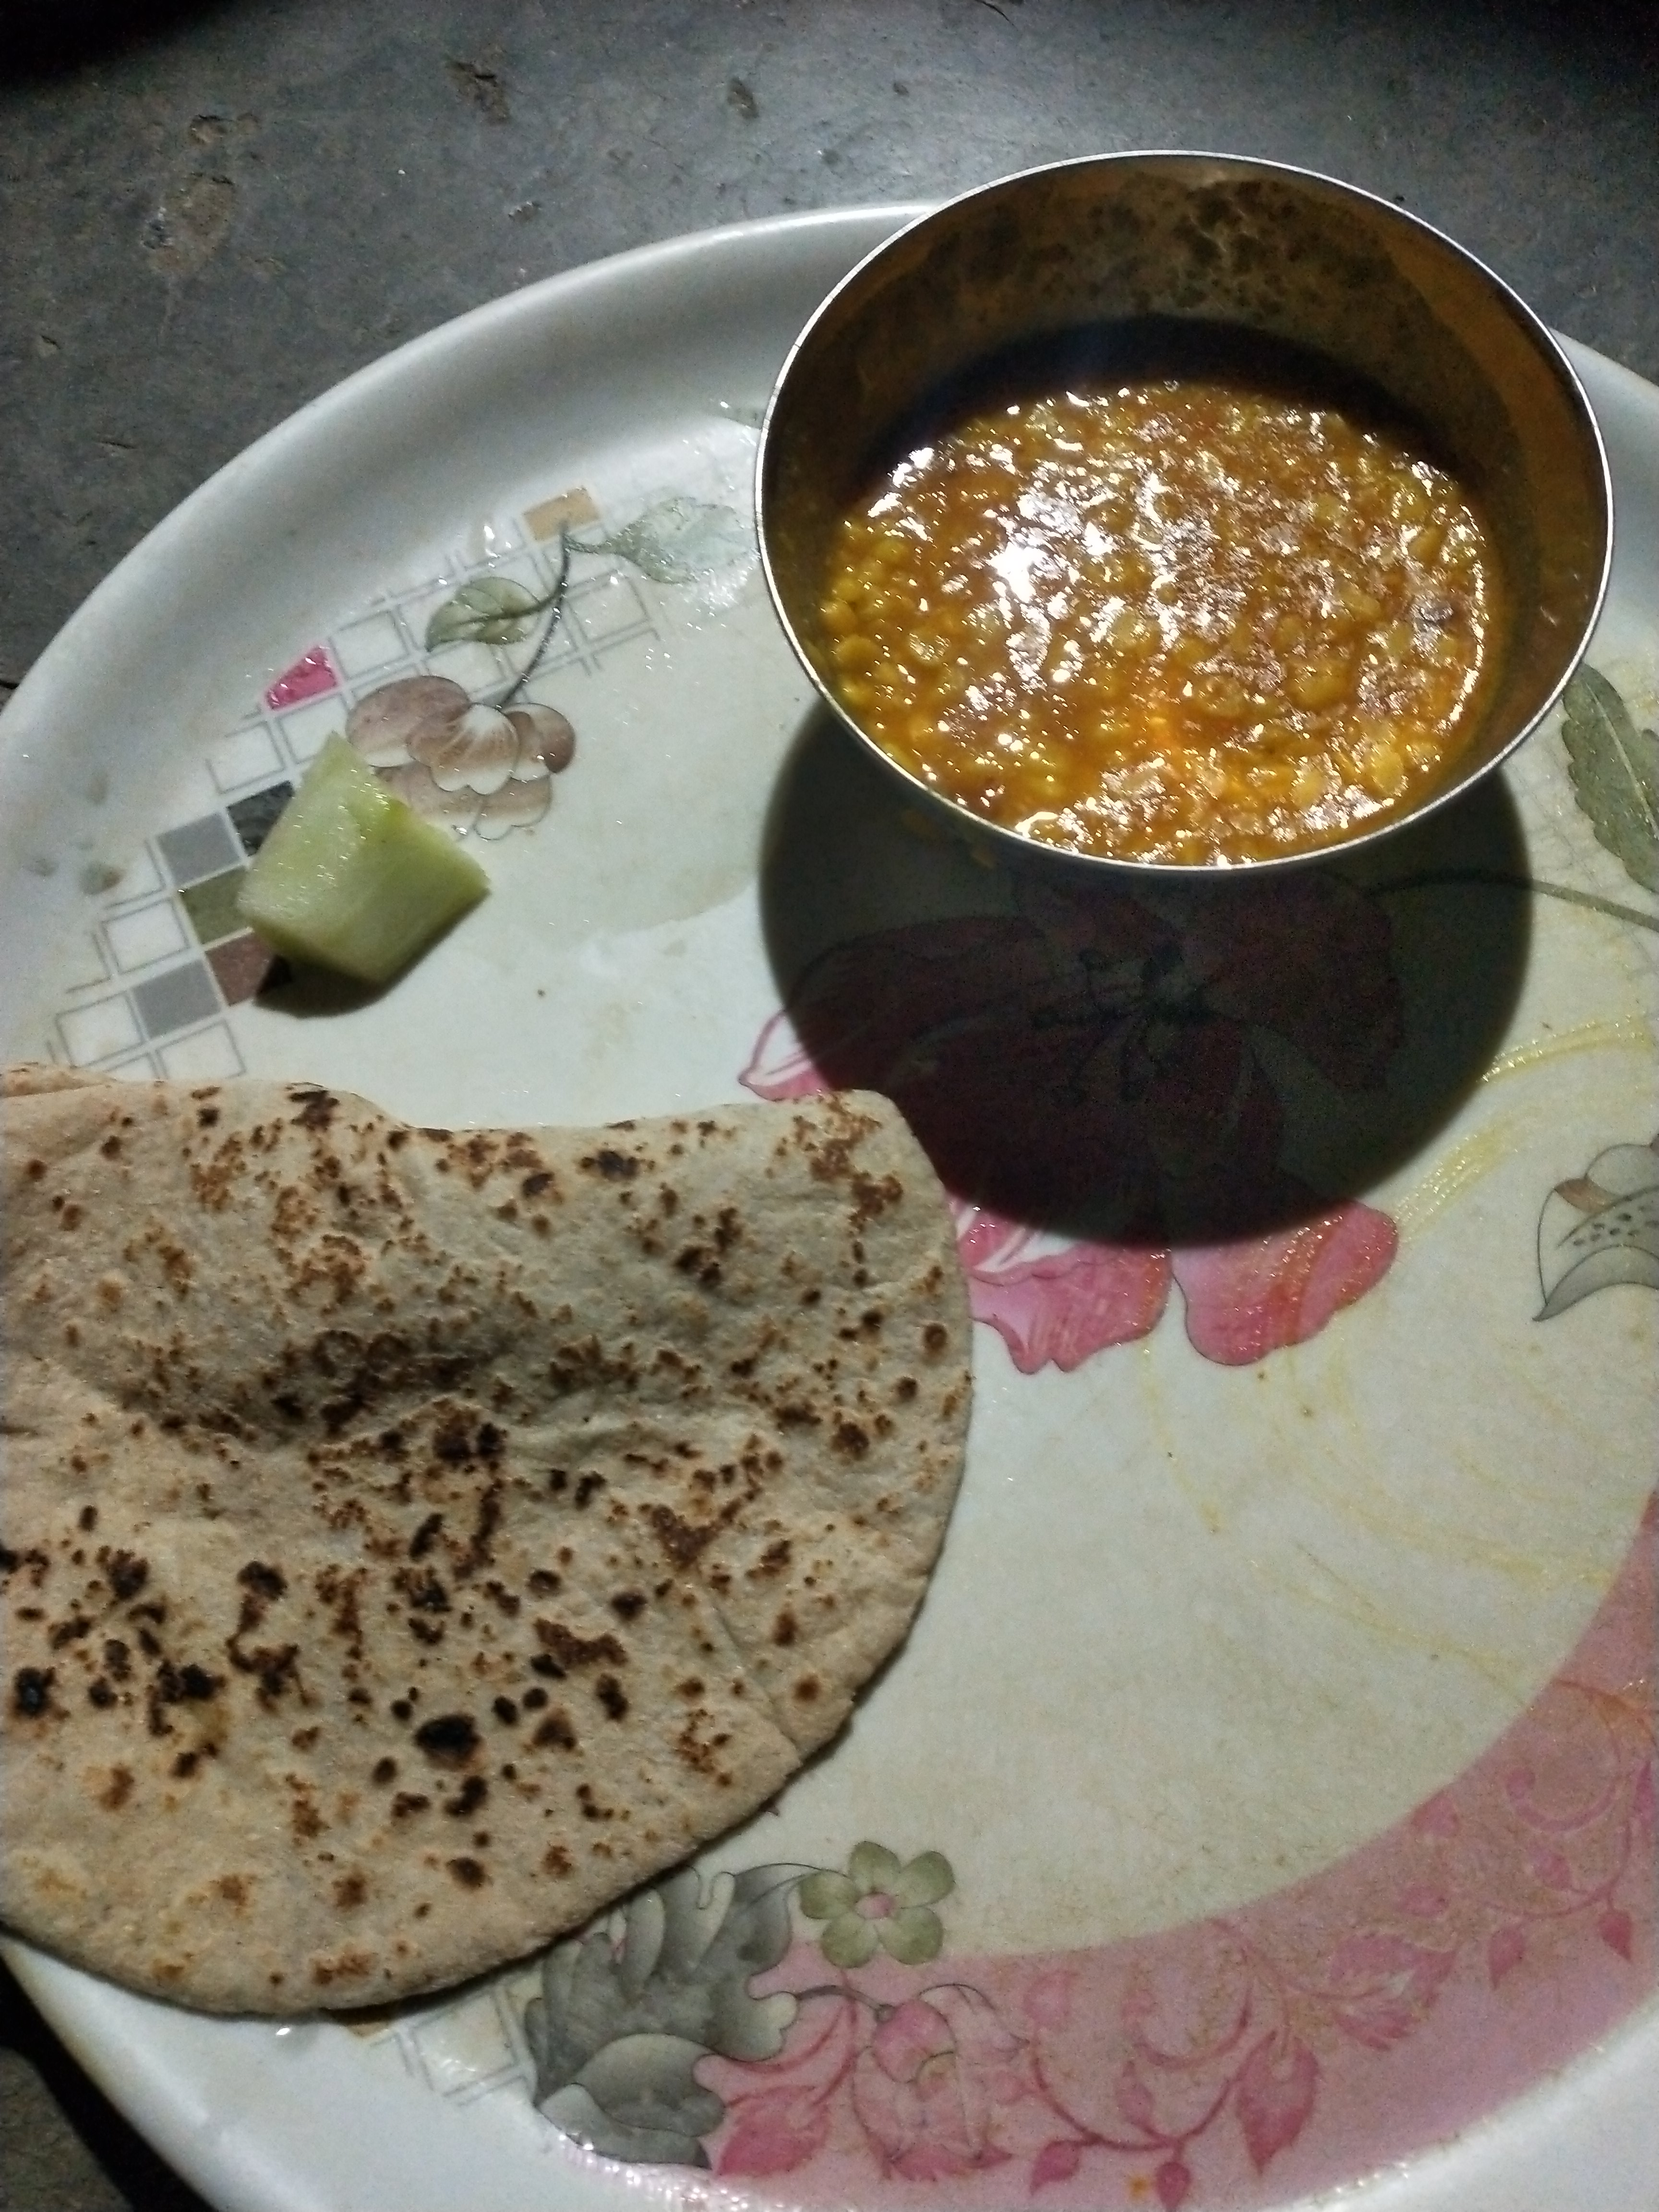food: (0, 296, 1535, 2033)
